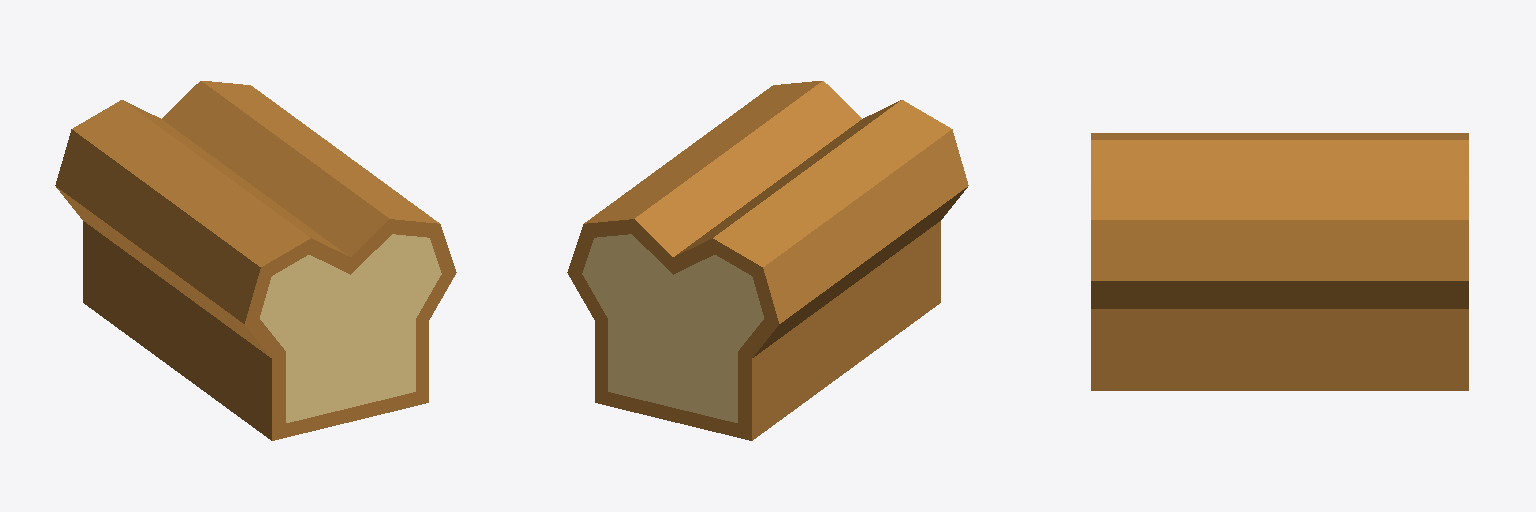
3 views of the same model, side by side, from view 1: azimuth 30°, elevation 25°; view 2: azimuth 150°, elevation 25°; view 3: azimuth 270°, elevation 25° (orthographic).
Parts seen in each view (by area): view 1: Plane.002_Mesh; view 2: Plane.002_Mesh; view 3: Plane.002_Mesh.
Part boxes in pixels (x1,y1,x2,y2): Plane.002_Mesh: (55, 81, 456, 440); Plane.002_Mesh: (567, 81, 968, 440); Plane.002_Mesh: (1091, 133, 1468, 390).
Size of the model in its own units: 0.1864 by 0.1622 by 0.2879.
Materials: 1 (1 with a texture image).